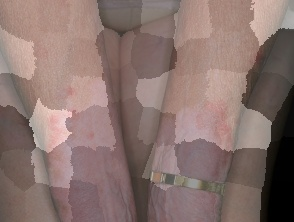vitiligo: (28, 65, 139, 222), (143, 85, 239, 222)
